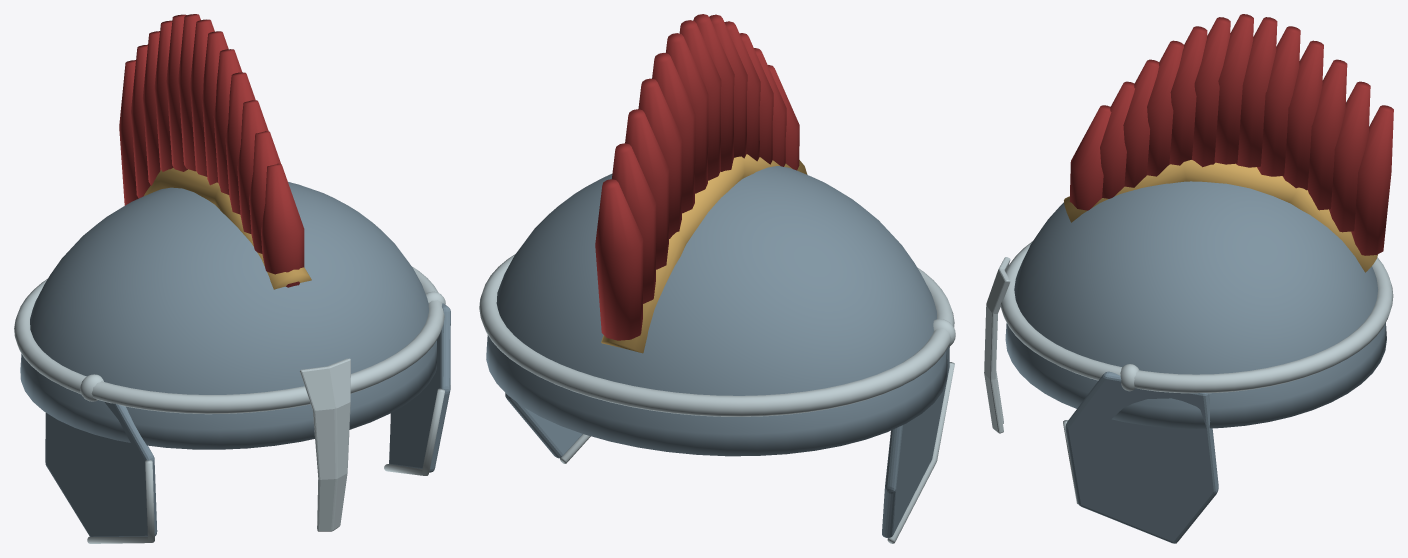
Rendered from plumed-helm.glb.
3 renders of one model, left to right at view 1: azimuth 30°, elevation 25°; view 2: azimuth 150°, elevation 25°; view 3: azimuth 270°, elevation 25°, orthographic. The views are drawn at different scales.
Parts seen in each view (by area): view 1: Fitted iron dome.001, Tapered articulated cheek plate.002, Forged brow binding.001, Integrated forged nasal blade.001, Tapered articulated cheek plate.003, Layered crimson crest.012, Plume brass saddle, Layered crimson crest.007, Layered crimson crest.009, Layered crimson crest.006, Layered crimson crest.008, Layered crimson crest.010 (+9 smaller); view 2: Fitted iron dome.001, Forged brow binding.001, Layered crimson crest, Tapered articulated cheek plate.002, Plume brass saddle, Layered crimson crest.001, Layered crimson crest.002, Layered crimson crest.003, Layered crimson crest.004, Layered crimson crest.005, Layered crimson crest.006, Layered crimson crest.007 (+7 smaller); view 3: Fitted iron dome.001, Tapered articulated cheek plate.003, Forged brow binding.001, Plume brass saddle, Layered crimson crest, Layered crimson crest.001, Layered crimson crest.002, Layered crimson crest.004, Layered crimson crest.003, Layered crimson crest.005, Layered crimson crest.006, Layered crimson crest.007 (+6 smaller).
Part boxes in pixels (x1,y1,x2,y2): Fitted iron dome.001: (20,182,436,449); Tapered articulated cheek plate.002: (45,401,157,536); Forged brow binding.001: (14,266,444,414); Integrated forged nasal blade.001: (300,358,350,531); Tapered articulated cheek plate.003: (389,303,450,472); Layered crimson crest.012: (261,163,304,287); Plume brass saddle: (144,168,311,289); Layered crimson crest.007: (202,31,228,185); Layered crimson crest.009: (225,72,255,214); Layered crimson crest.006: (190,19,214,176); Layered crimson crest.008: (213,49,241,194); Layered crimson crest.010: (237,100,268,233); Fitted iron dome.001: (486,166,947,456); Forged brow binding.001: (479,254,954,416); Layered crimson crest: (595,179,643,340); Tapered articulated cheek plate.002: (882,346,949,538); Plume brass saddle: (601,154,807,353); Layered crimson crest.001: (612,143,656,303); Layered crimson crest.002: (625,109,669,269); Layered crimson crest.003: (638,78,682,238); Layered crimson crest.004: (652,53,695,213); Layered crimson crest.005: (665,33,708,193); Layered crimson crest.006: (679,20,721,180); Layered crimson crest.007: (693,14,734,171); Fitted iron dome.001: (1005,181,1386,428); Tapered articulated cheek plate.003: (1065,371,1218,543); Forged brow binding.001: (1000,241,1393,393); Plume brass saddle: (1064,160,1377,272); Layered crimson crest: (1351,105,1393,255); Layered crimson crest.001: (1329,81,1370,232); Layered crimson crest.002: (1307,59,1347,210); Layered crimson crest.004: (1257,26,1300,176); Layered crimson crest.003: (1282,40,1323,190); Layered crimson crest.005: (1236,17,1277,167); Layered crimson crest.006: (1214,14,1253,164); Layered crimson crest.007: (1192,17,1230,167).
Bounding box in the file's own units: 0.822 × 0.9495 × 0.7732.
